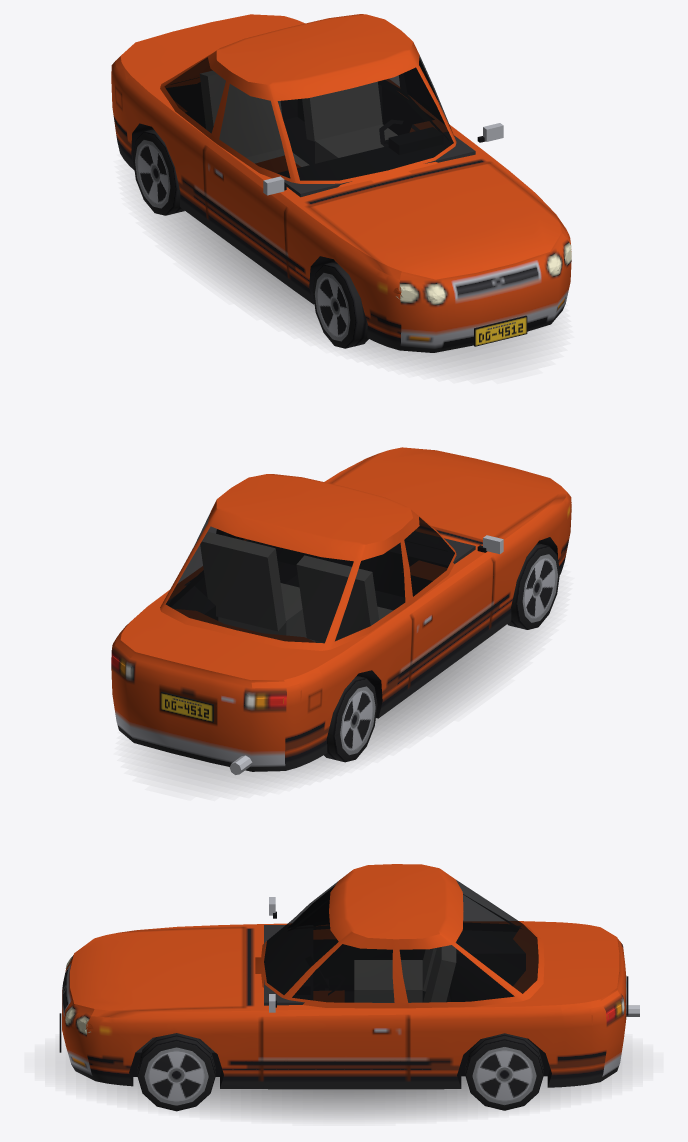
File: dengo.glb
The picture shows the model from 3 angles, top to bottom: view 1: azimuth 30°, elevation 25°; view 2: azimuth 150°, elevation 25°; view 3: azimuth 270°, elevation 25°; orthographic projection. The views are drawn at different scales.
Parts seen in each view (by area): view 1: Carroceria, Capo_malha, Interior, Porta_D_malha, Sombra, Tampa_malha, Roda_DD, Roda_TD, Porta_E_malha, Farol; view 2: Carroceria, Interior, Capo_malha, Porta_D_malha, Sombra, Tampa_malha, Roda_TD, Roda_DD; view 3: Carroceria, Porta_E_malha, Interior, Capo_malha, Sombra, Roda_DE, Roda_TE, Tampa_malha, Porta_D_malha.
Boxes of the visible parts, x1,y1,x2,y2 form: Carroceria: (111,14,571,352); Capo_malha: (307,162,567,279); Interior: (166,71,475,261); Porta_D_malha: (203,66,295,277); Sombra: (152,211,544,368); Tampa_malha: (115,14,304,73); Roda_DD: (312,261,368,348); Roda_TD: (133,129,184,215); Porta_E_malha: (404,42,503,143); Farol: (393,245,571,303); Carroceria: (111,450,571,774); Interior: (166,531,475,642); Capo_malha: (330,447,567,540); Porta_D_malha: (392,510,503,687); Sombra: (144,624,534,784); Tampa_malha: (115,622,314,688); Roda_TD: (324,676,377,762); Roda_DD: (507,543,559,629); Carroceria: (59,864,639,1089); Porta_E_malha: (261,932,408,1080); Interior: (135,897,525,1052); Capo_malha: (75,927,244,1017); Sombra: (65,1050,622,1117); Roda_DE: (137,1033,215,1111); Roda_TE: (465,1033,543,1110); Tampa_malha: (562,923,619,1008); Porta_D_malha: (269,887,333,927).
Size of the model in its own units: 2.26 by 1.35 by 4.83.
Materials: 12 (6 with a texture image).
